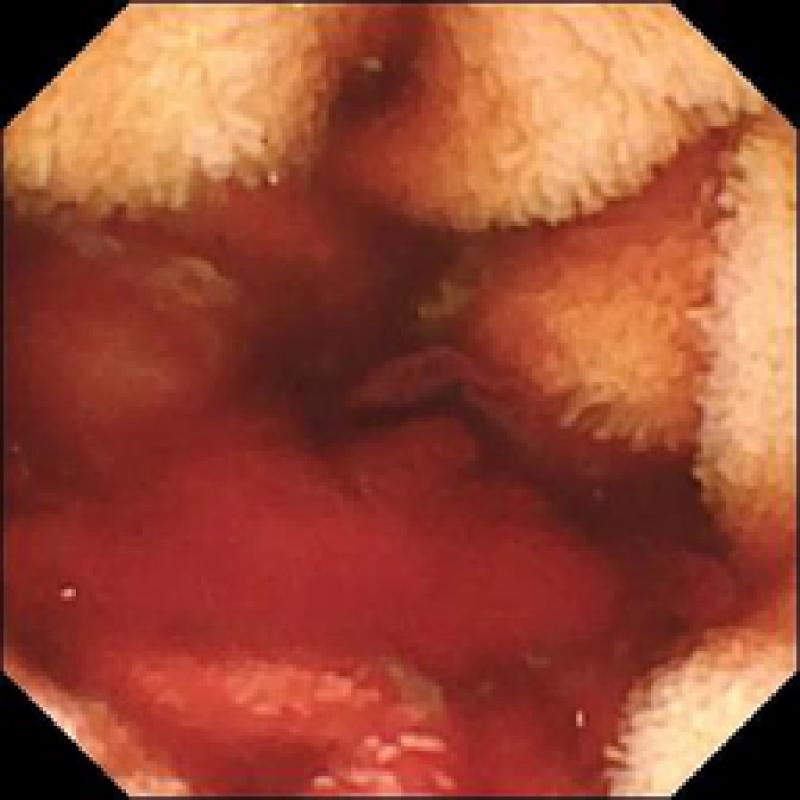bleeding: (0, 445, 738, 800), (228, 4, 443, 425), (24, 221, 212, 429)
